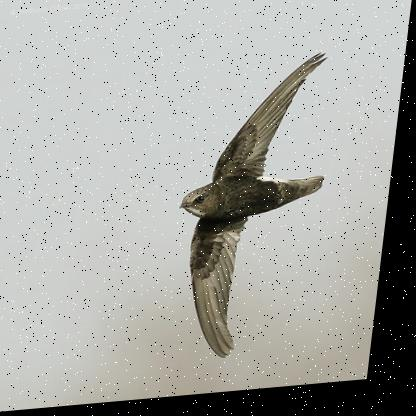Burung: (169, 57, 340, 367)
